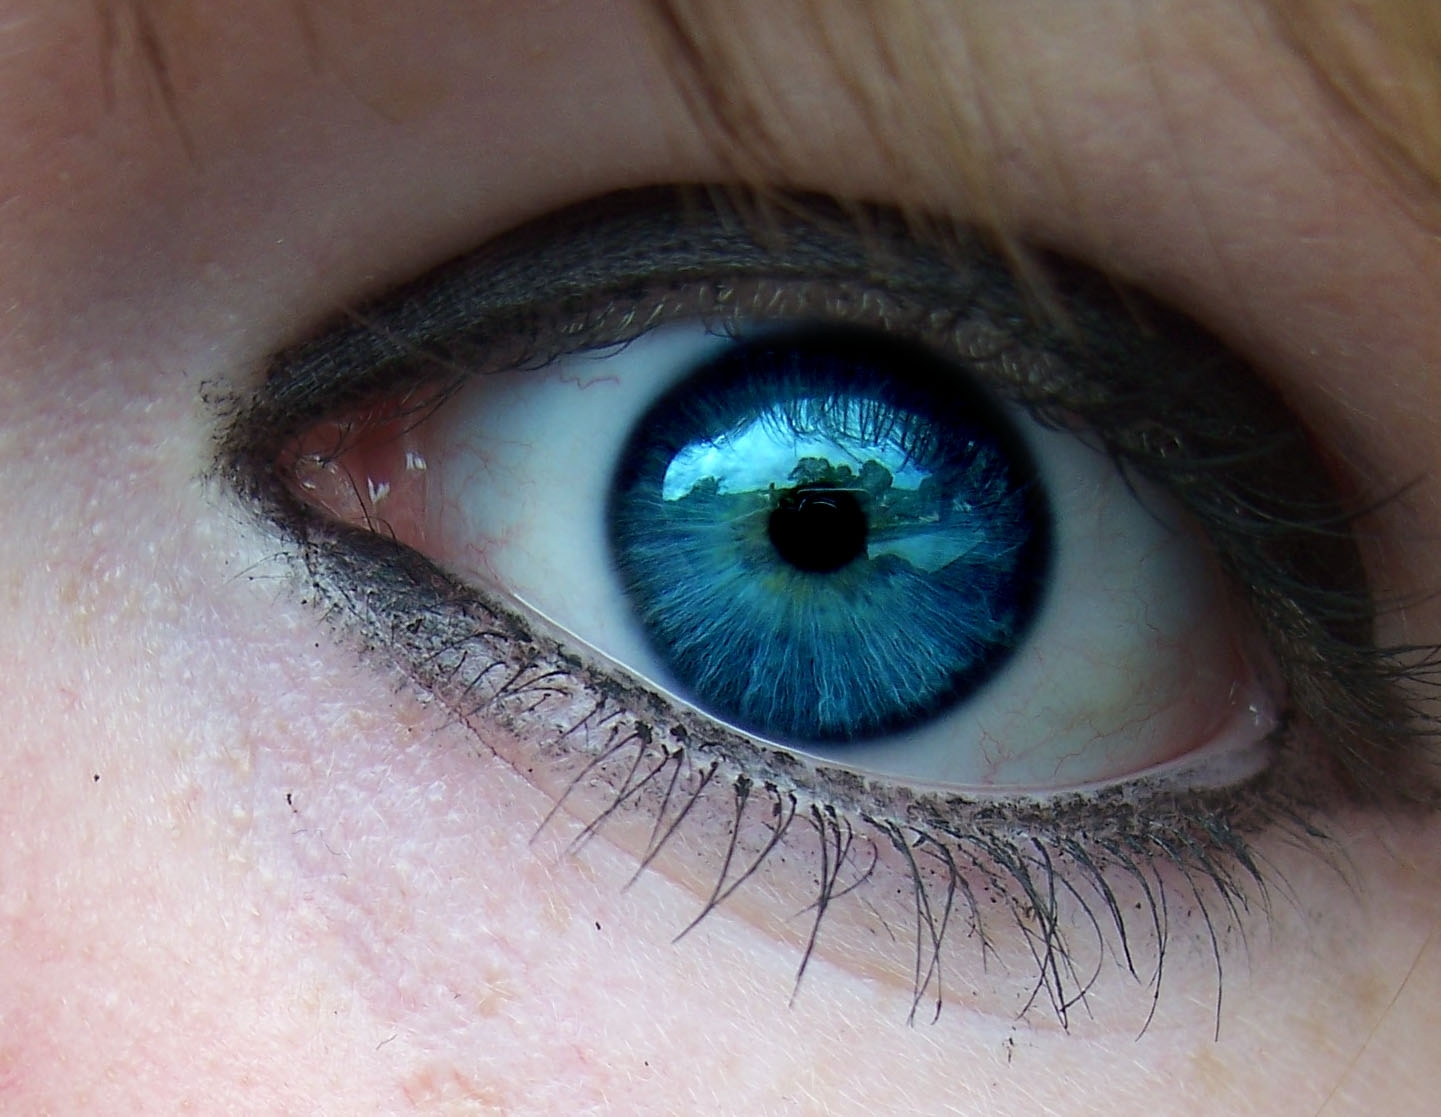iris: (607, 310, 1055, 752)
pupil: (765, 469, 870, 579)
